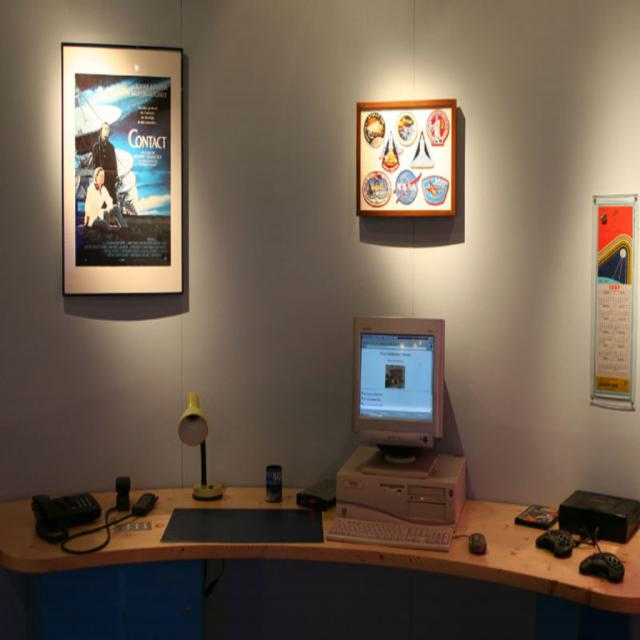desk: (41, 462, 634, 626)
keyboard: (325, 515, 454, 552)
mouse: (578, 553, 625, 582), (469, 532, 487, 555)
tv: (351, 316, 445, 450)
